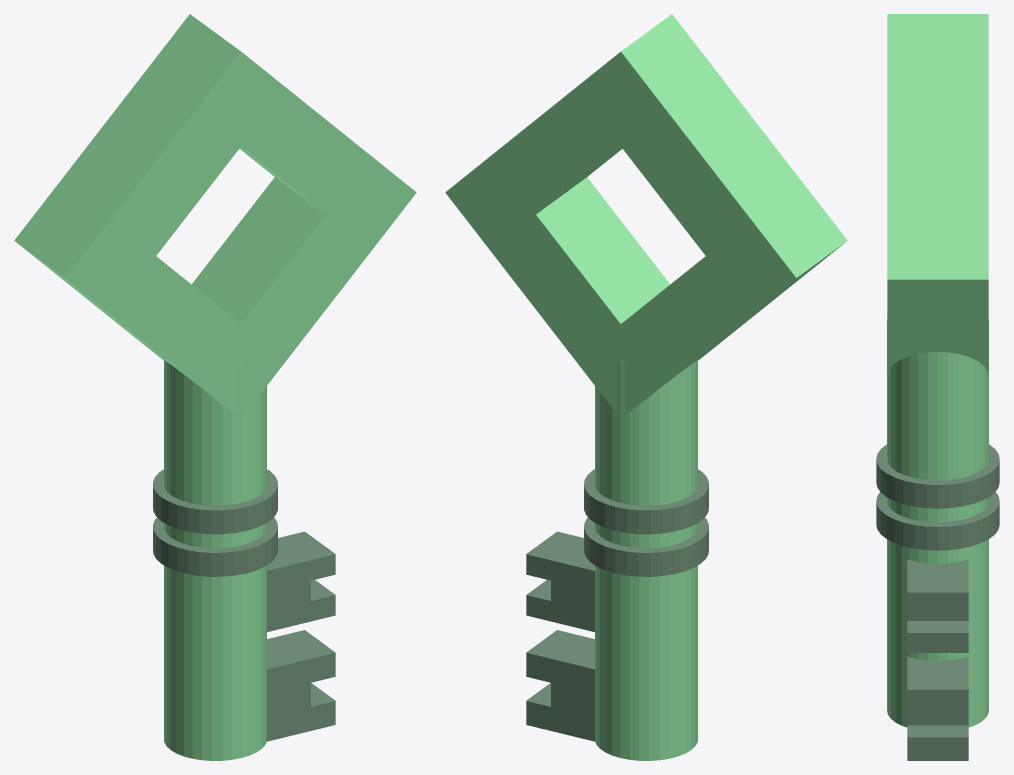
The model's file is Key2.fbx.
The picture shows the model from 3 angles, left to right: view 1: azimuth 30°, elevation 25°; view 2: azimuth 150°, elevation 25°; view 3: azimuth 270°, elevation 25°; orthographic projection.
Parts seen in each view (by area): view 1: Cube, Keypart1.003, Keypart6.003, Keypart5.003, Keypart3.003, Keypart4.003; view 2: Cube, Keypart1.003, Keypart6.003, Keypart5.003, Keypart3.003, Keypart4.003; view 3: Cube, Keypart1.003, Keypart6.003, Keypart5.003, Keypart3.003, Keypart4.003.
Part boxes in pixels (box(x1,y1,x2,y2)): Cube: box(14, 14, 416, 415); Keypart1.003: box(164, 360, 266, 760); Keypart6.003: box(266, 630, 335, 741); Keypart5.003: box(266, 531, 335, 631); Keypart3.003: box(153, 469, 277, 534); Keypart4.003: box(153, 517, 277, 576); Cube: box(445, 14, 847, 415); Keypart1.003: box(595, 360, 697, 760); Keypart6.003: box(526, 630, 595, 741); Keypart5.003: box(526, 531, 595, 631); Keypart3.003: box(584, 469, 708, 534); Keypart4.003: box(584, 517, 708, 576); Cube: box(887, 14, 988, 373); Keypart1.003: box(887, 319, 988, 727); Keypart6.003: box(907, 656, 968, 760); Keypart5.003: box(907, 559, 968, 652); Keypart3.003: box(876, 444, 999, 508); Keypart4.003: box(876, 492, 999, 550).
Bounding box in the file's own units: 61.03 × 117 × 18.86.
